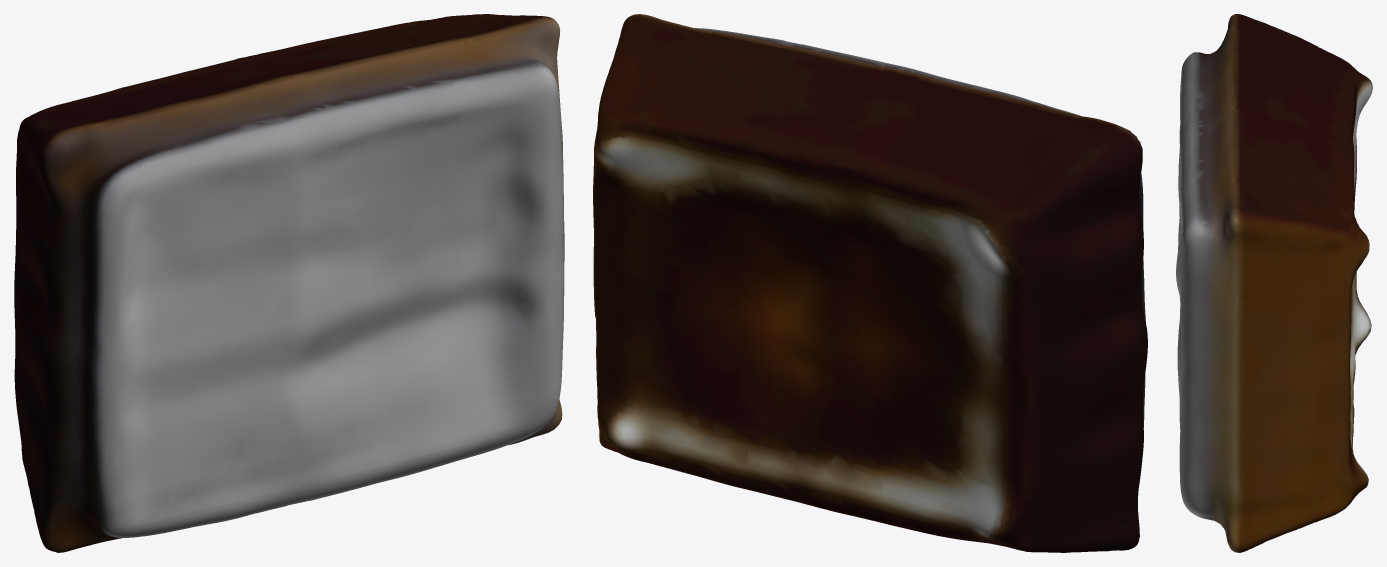
File: soap.glb
The picture shows the model from 3 angles, left to right: view 1: azimuth 30°, elevation 25°; view 2: azimuth 150°, elevation 25°; view 3: azimuth 270°, elevation 25°; orthographic projection. The views are drawn at different scales.
Size of the model in its own units: 0.999 by 0.7752 by 0.3988.
